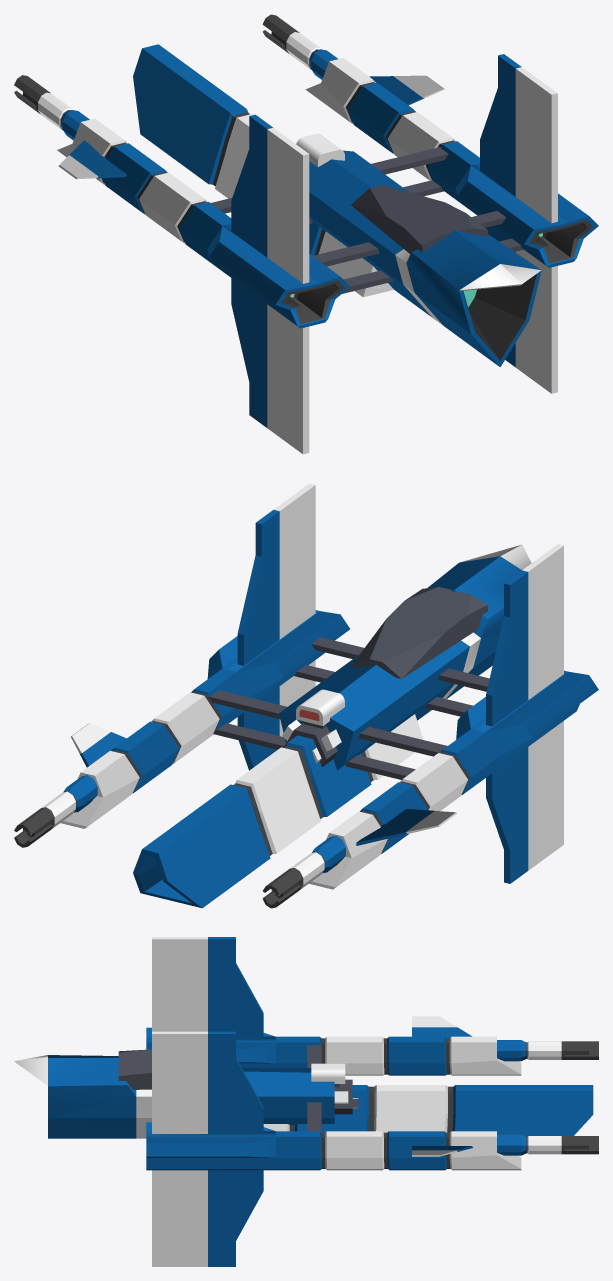
File: midShip4_centered.obj
3 views of the same model, one above another, from view 1: azimuth 30°, elevation 25°; view 2: azimuth 150°, elevation 25°; view 3: azimuth 270°, elevation 25° (orthographic). The views are drawn at different scales.
Parts seen in each view (by area): view 1: Engine12g_2, Engine04_1, Engine04_0, Hull08_3, wing_corner_11, wing_corner_12, wing_corner_14, glass_high_5, wing_corner_13, detail_roofRails%_8, Weapon03_7, Weapon03_6 (+4 smaller); view 2: Hull08_3, Engine04_1, Engine04_0, Engine12g_2, wing_corner_12, wing_corner_11, wing_corner_14, glass_high_5, detail_roofRails%_8, detail_roofRails%_9, detail_engine_10, Weapon03_6 (+4 smaller); view 3: Engine04_1, Hull08_3, Engine12g_2, wing_corner_12, Engine04_0, wing_corner_11, wing_corner_13, Weapon03_6, Weapon03_7, detail_engine_10, glass_high_5, wing_diagonalFin_15 (+2 smaller).
Part boxes in pixels (left/top/right/bottom): Engine12g_2: left=309, top=150, right=541, bottom=367; Engine04_1: left=305, top=58, right=598, bottom=267; Engine04_0: left=57, top=118, right=350, bottom=328; Hull08_3: left=133, top=44, right=393, bottom=297; wing_corner_11: left=231, top=114, right=309, bottom=283; wing_corner_12: left=480, top=54, right=557, bottom=223; wing_corner_14: left=231, top=278, right=309, bottom=454; glass_high_5: left=351, top=185, right=487, bottom=254; wing_corner_13: left=485, top=226, right=557, bottom=393; detail_roofRails%_8: left=182, top=147, right=506, bottom=266; Weapon03_7: left=14, top=75, right=89, bottom=140; Weapon03_6: left=262, top=14, right=337, bottom=79; Hull08_3: left=133, top=714, right=423, bottom=908; Engine04_1: left=60, top=610, right=349, bottom=828; Engine04_0: left=309, top=670, right=598, bottom=889; Engine12g_2: left=279, top=544, right=531, bottom=770; wing_corner_12: left=237, top=483, right=315, bottom=665; wing_corner_11: left=486, top=544, right=563, bottom=726; wing_corner_14: left=486, top=721, right=563, bottom=883; glass_high_5: left=351, top=587, right=487, bottom=678; detail_roofRails%_8: left=208, top=637, right=489, bottom=771; detail_roofRails%_9: left=213, top=665, right=472, bottom=779; detail_engine_10: left=282, top=689, right=344, bottom=766; Weapon03_6: left=14, top=775, right=97, bottom=847; Engine04_1: left=146, top=1122, right=521, bottom=1170; Hull08_3: left=263, top=1085, right=593, bottom=1136; Engine12g_2: left=14, top=1055, right=334, bottom=1138; wing_corner_12: left=152, top=1031, right=263, bottom=1133; Engine04_0: left=146, top=1027, right=521, bottom=1075; wing_corner_11: left=152, top=937, right=263, bottom=1039; wing_corner_13: left=152, top=1170, right=263, bottom=1266; Weapon03_6: left=497, top=1134, right=598, bottom=1155; Weapon03_7: left=497, top=1040, right=598, bottom=1061; detail_engine_10: left=311, top=1063, right=358, bottom=1114; glass_high_5: left=118, top=1049, right=241, bottom=1089; wing_diagonalFin_15: left=412, top=1016, right=472, bottom=1038.
Bounding box in the file's own units: 2.97 × 2.3 × 5.24.
